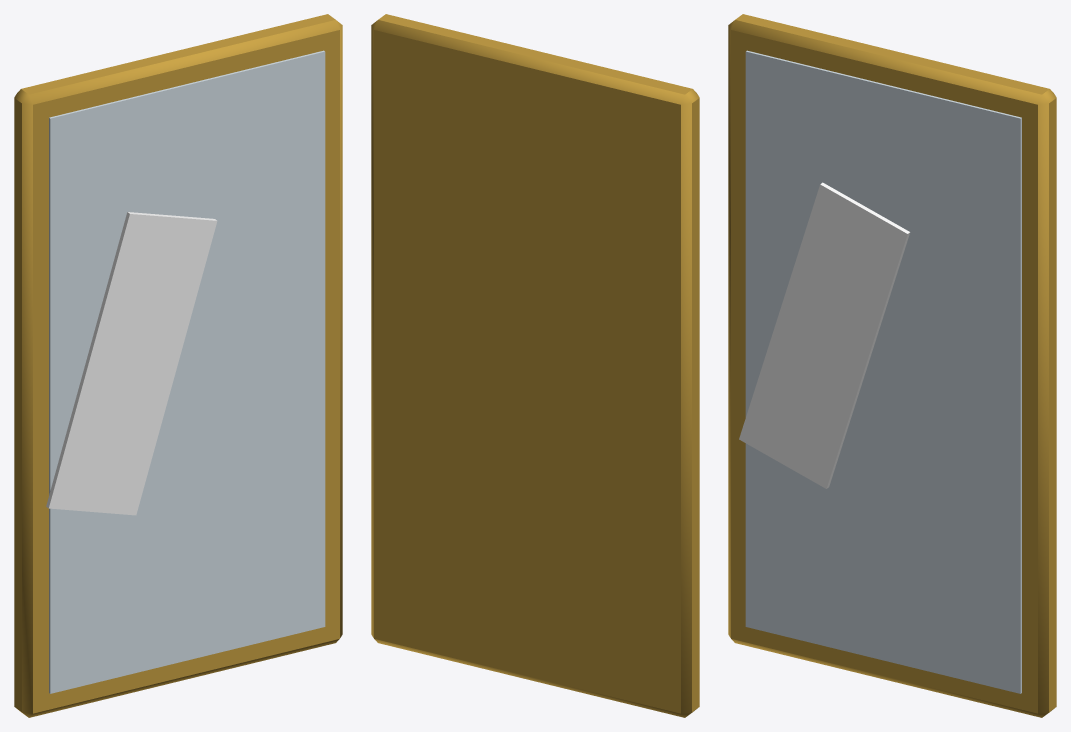
Rendered from mirror_panel.glb.
3 views of the same model, side by side, from view 1: azimuth 30°, elevation 25°; view 2: azimuth 150°, elevation 25°; view 3: azimuth 330°, elevation 25° (orthographic).
Parts seen in each view (by area): view 1: mirror_panel; view 2: mirror_panel; view 3: mirror_panel.
Boxes of the visible parts, <box> form: mirror_panel: <box>14,14,342,717</box>; mirror_panel: <box>371,14,699,717</box>; mirror_panel: <box>728,14,1056,717</box>.
Size of the model in its own units: 1.4 by 2.6 by 0.15.
